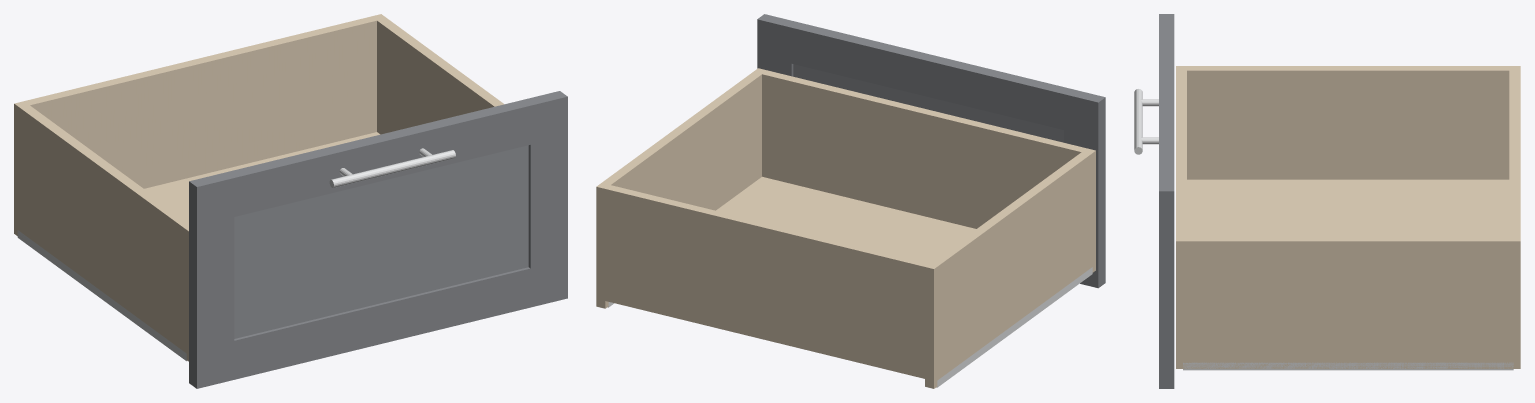
File: skuff_K5_1.glb
3 renders of one model, left to right at view 1: azimuth 30°, elevation 25°; view 2: azimuth 150°, elevation 25°; view 3: azimuth 270°, elevation 25°, orthographic. The views are drawn at different scales.
Bounding box in the file's own units: 596 × 310 × 549.
